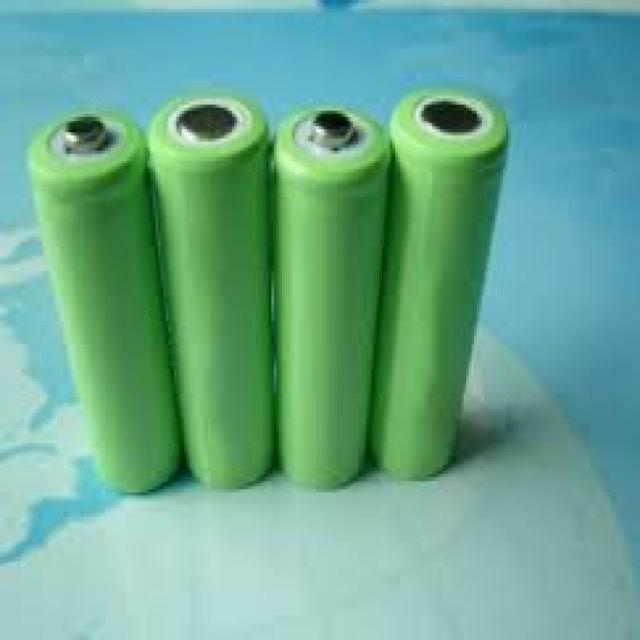battery: (34, 106, 182, 504), (368, 80, 514, 476), (147, 95, 276, 493), (272, 102, 390, 488)
